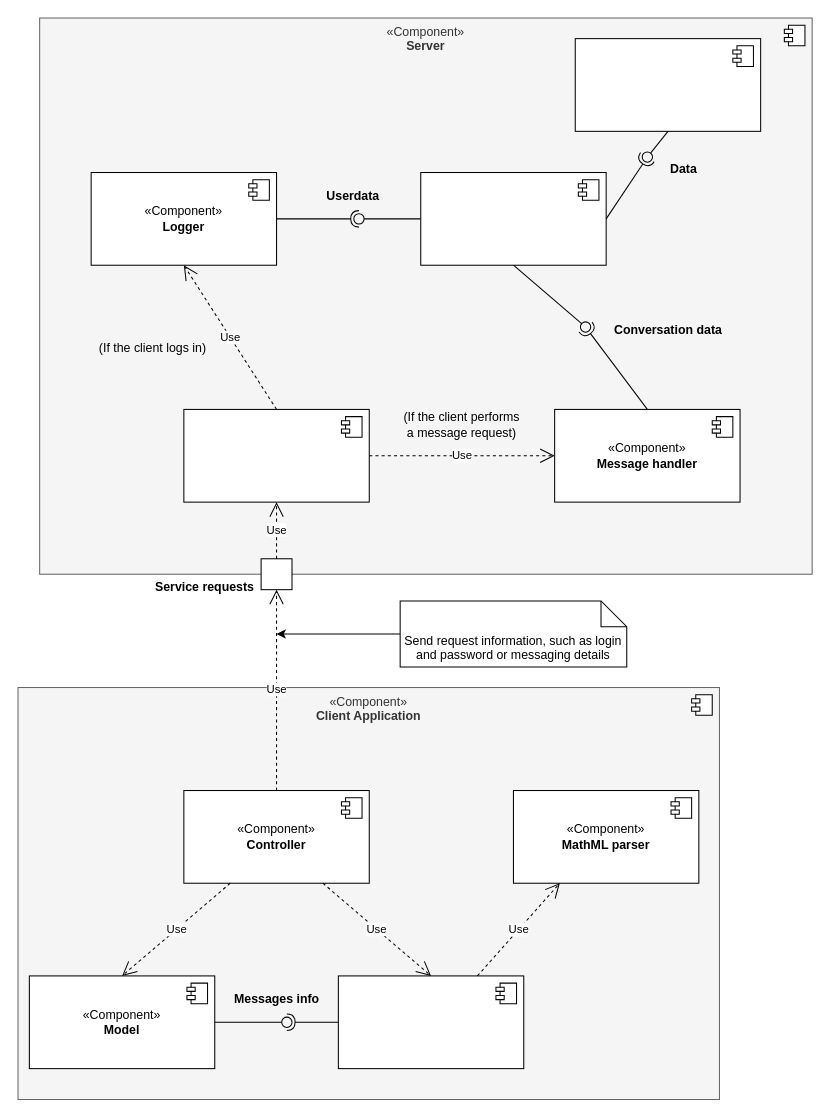
This 830x1118 diagram has some shape labels left out. Here are the shapes that lost their labels. From the top down, the centre of each, then its label:
point (667, 84): «Database» CommunicationDB
point (513, 218): «Component» Database Access
point (276, 455): «Component» Session manager
point (430, 1022): «Component» View
